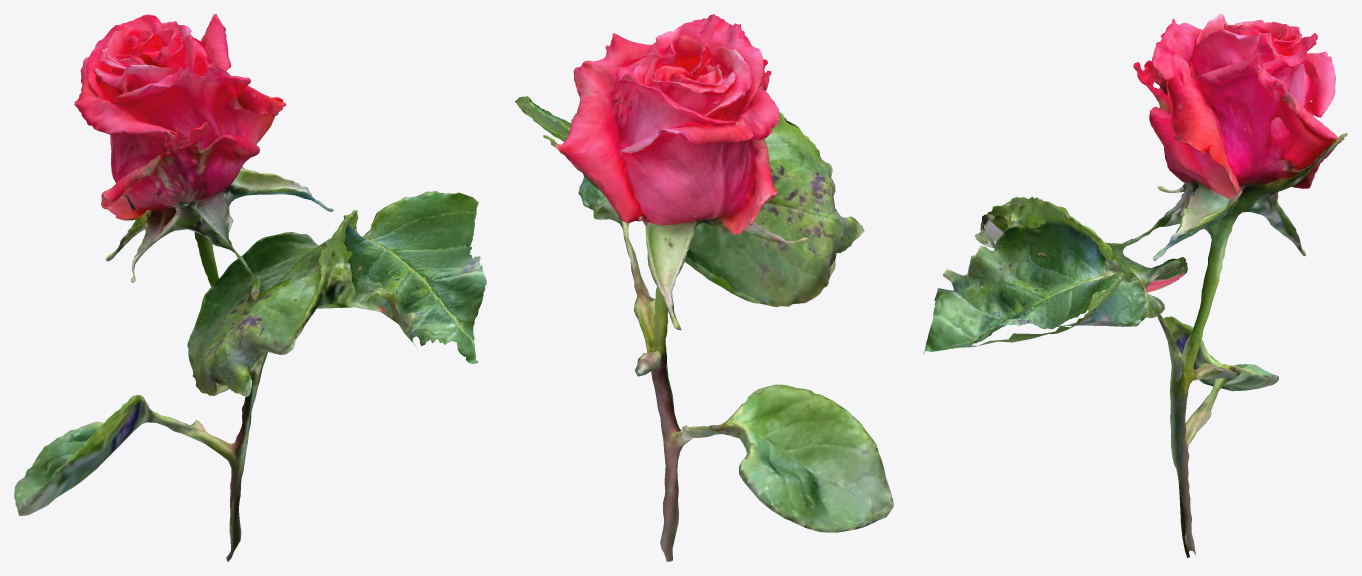
File: rose-transformed.glb
The picture shows the model from 3 angles, left to right: view 1: azimuth 30°, elevation 25°; view 2: azimuth 150°, elevation 25°; view 3: azimuth 270°, elevation 25°; orthographic projection. The views are drawn at different scales.
Visible parts, largest first — view 1: Object_4; view 2: Object_4; view 3: Object_4.
Boxes of the visible parts, x1,y1,x2,y2 form: Object_4: (14, 14, 486, 561); Object_4: (515, 14, 893, 561); Object_4: (923, 14, 1347, 558).
Size of the model in its own units: 0.1575 by 0.1917 by 0.1416.
1 material, 1 textured.
